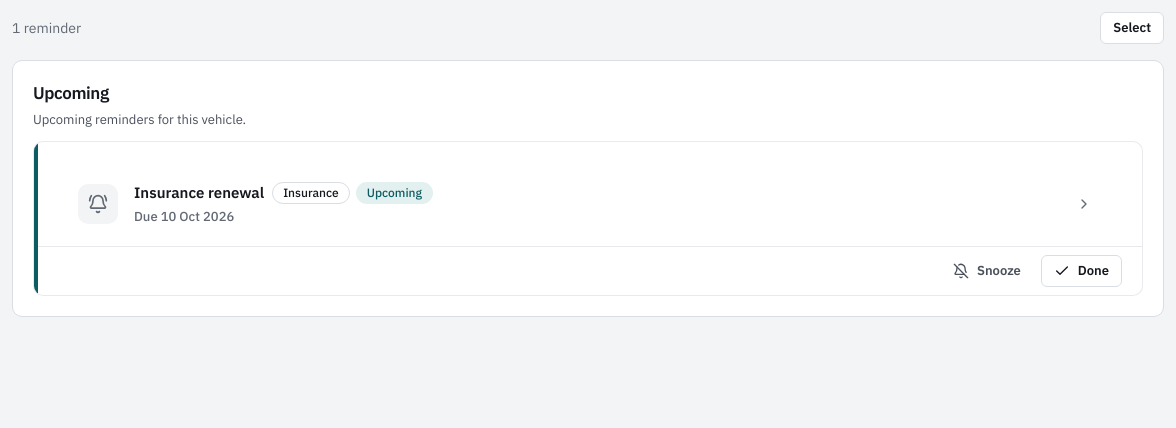
Test: VehicleReminderList scales to the list › drops the selection when Select is done
Click the button "Select": (1132, 28) [1100,12,1164,44]
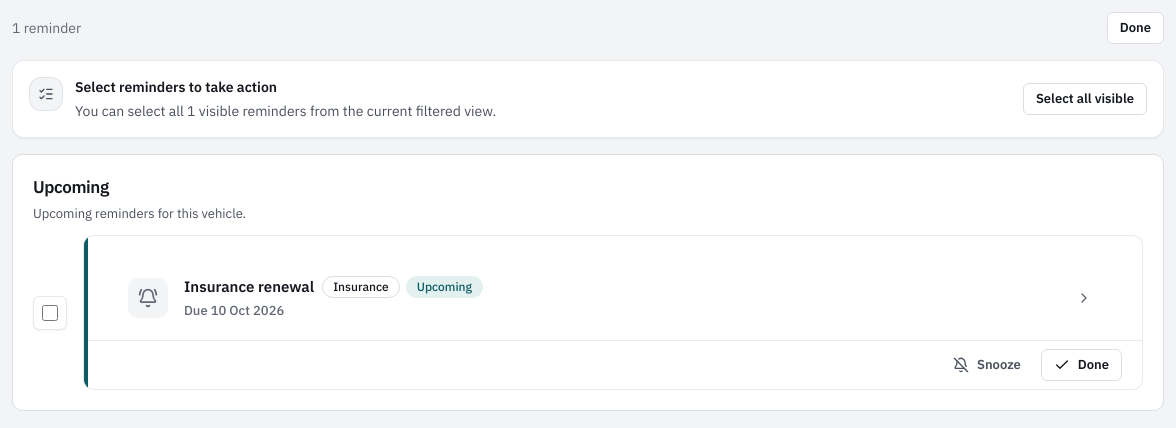
Click the checkbox named "select reminder insurance renewal": (50, 312) [42,304,58,320]
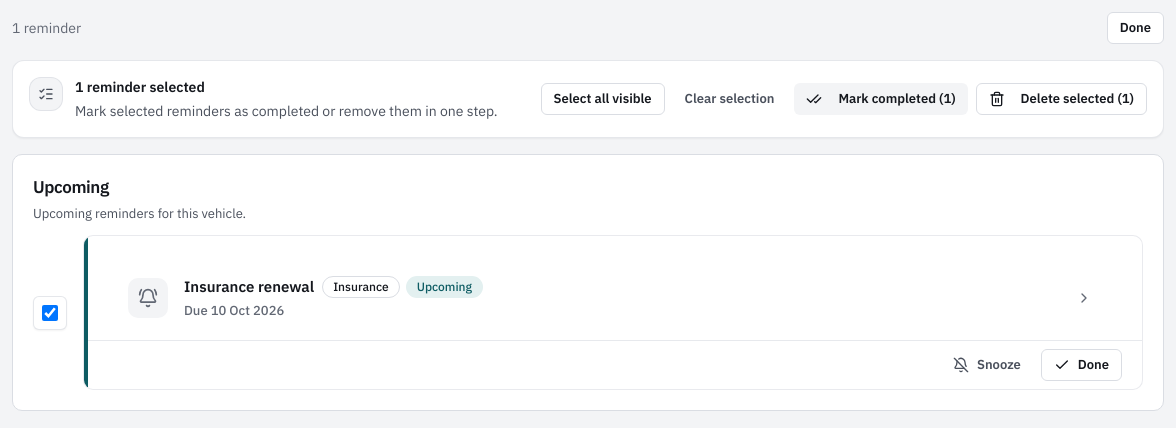
Expected: the text "1 reminder selected" is shown, [75,78,205,96]
Click the 1st button "Done": (1135, 28) [1107,12,1164,44]
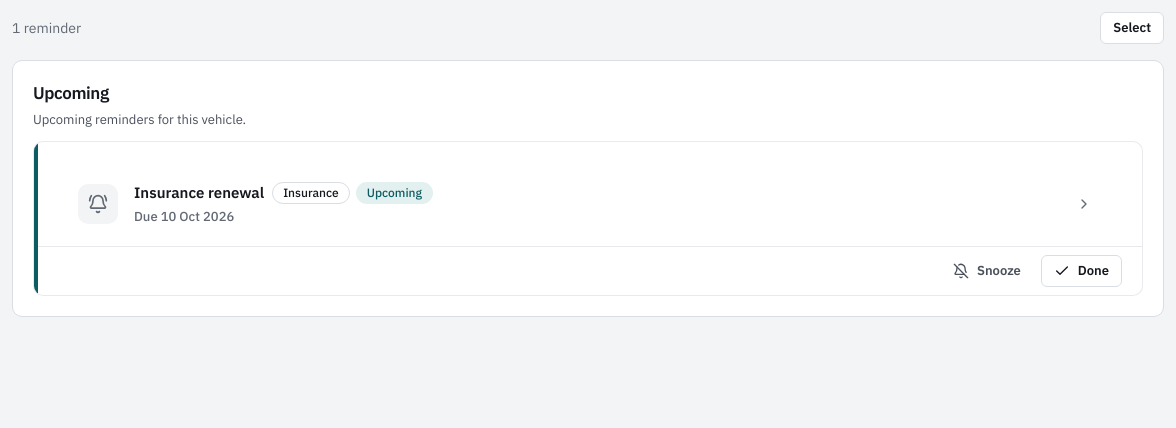
Click the button "Select": (1132, 28) [1100,12,1164,44]
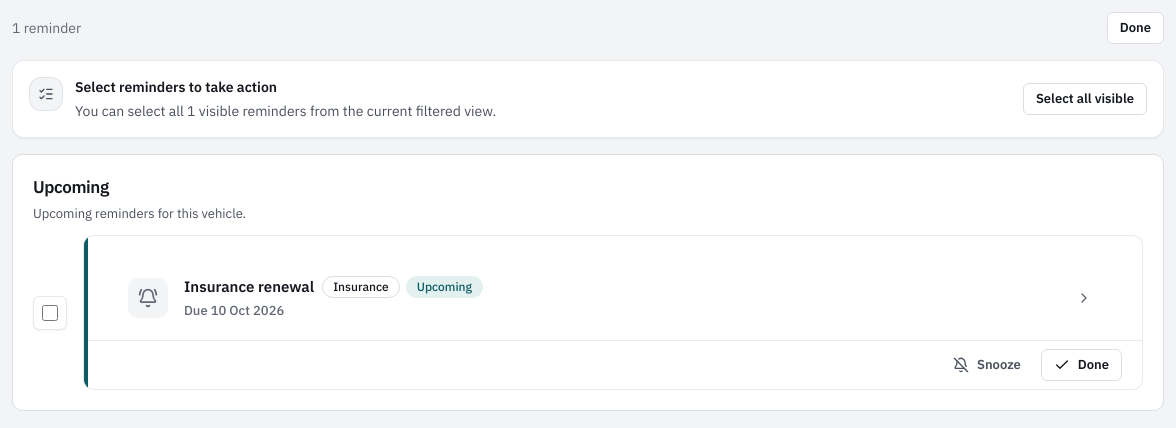
Expected: the text "Select reminders to take action" is shown, [75,78,277,96]
